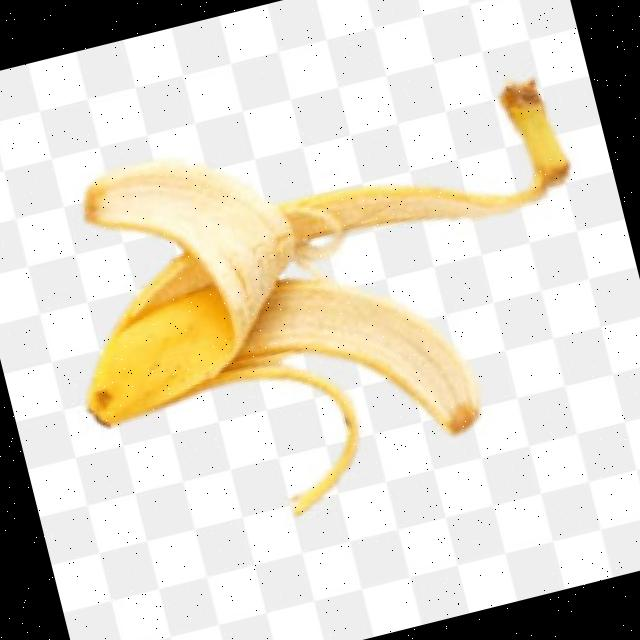banana-peel: (30, 60, 635, 558)
